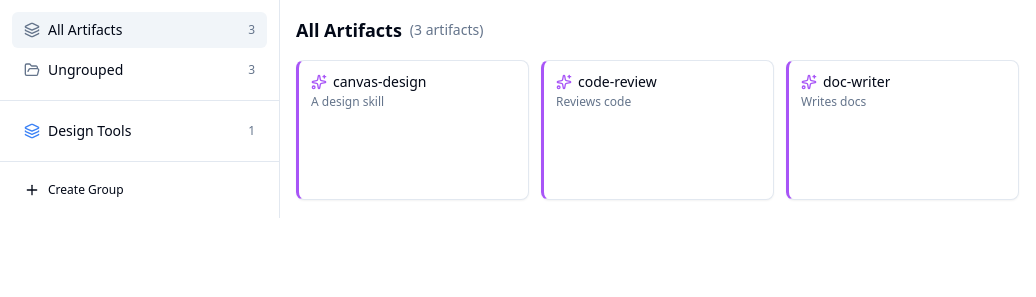
Test: GroupedArtifactView › shows drag hint when a group pane has no artifacts
Note: Select the empty group
Click the text "Design Tools" at (90, 130), box [48,121,131,140]
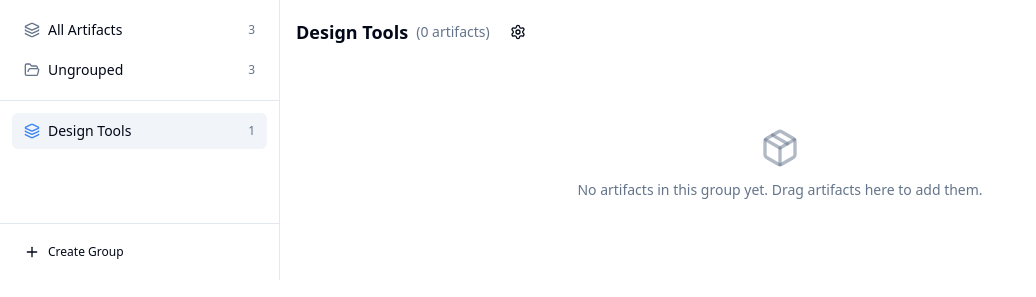
Expected: the text "No artifacts in this group yet. Drag artifacts here to add them." is shown, [577,180,983,200]
